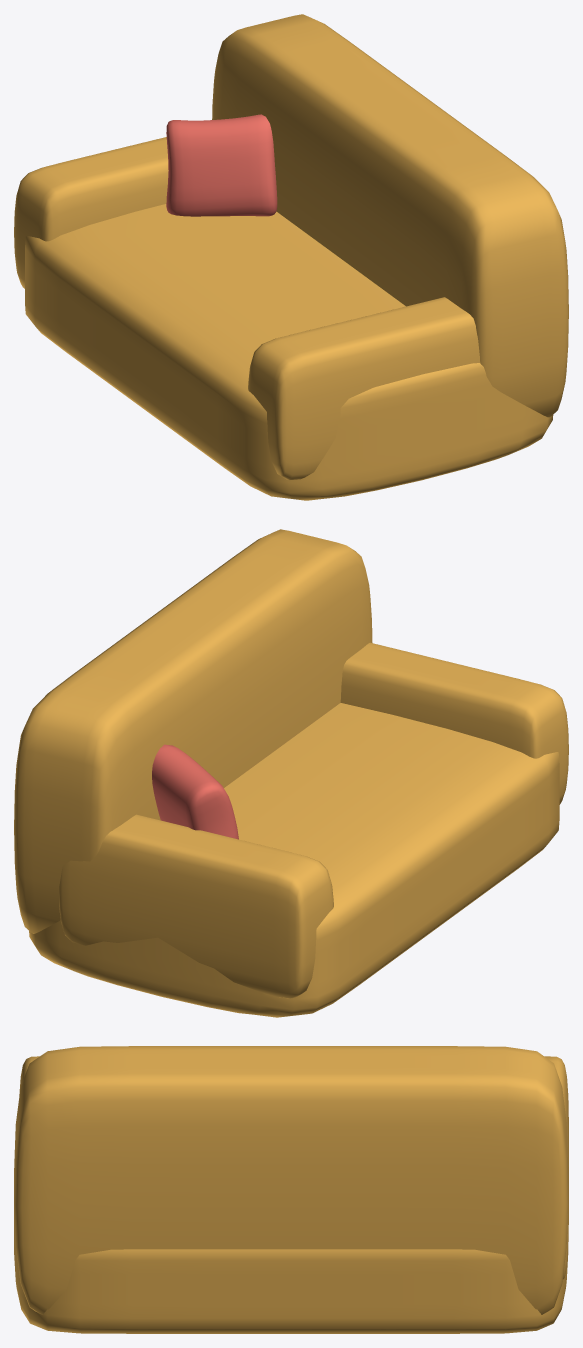
The model's file is sofa.fbx.
3 renders of one model, top to bottom at view 1: azimuth 30°, elevation 25°; view 2: azimuth 150°, elevation 25°; view 3: azimuth 270°, elevation 25°, orthographic.
Parts seen in each view (by area): view 1: Cube, Cube.001, Cube.003, Cube.002, Cube.004; view 2: Cube.001, Cube, Cube.002, Cube.003, Cube.004; view 3: Cube.001, Cube, Cube.002.
Boxes of the visible parts, x1,y1,x2,y2 form: Cube: (25,204,553,500); Cube.001: (212,14,568,417); Cube.003: (248,297,480,480); Cube.002: (14,137,168,288); Cube.004: (166,114,277,216); Cube.001: (14,529,372,933); Cube: (29,703,559,1017); Cube.002: (59,814,333,998); Cube.003: (340,642,568,804); Cube.004: (152,744,238,839); Cube.001: (14,1046,568,1314); Cube: (14,1203,568,1333); Cube.002: (544,1056,568,1279).
Size of the model in its own units: 668 by 546 by 1047.
